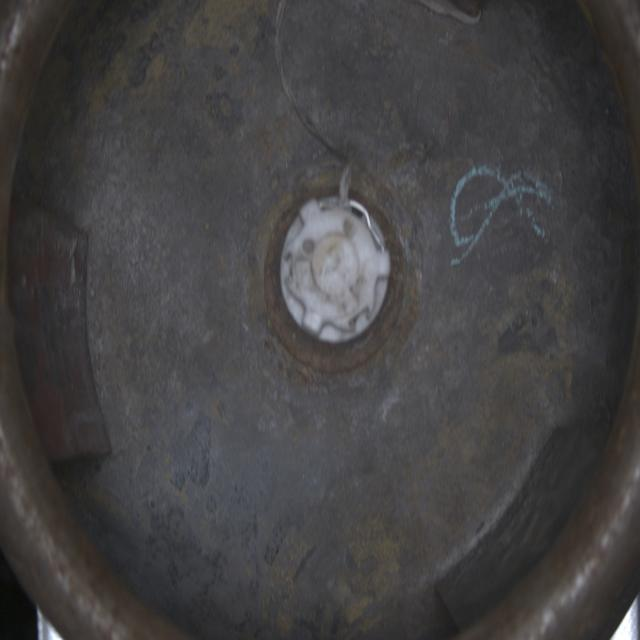Cap: (282, 184, 392, 345)
